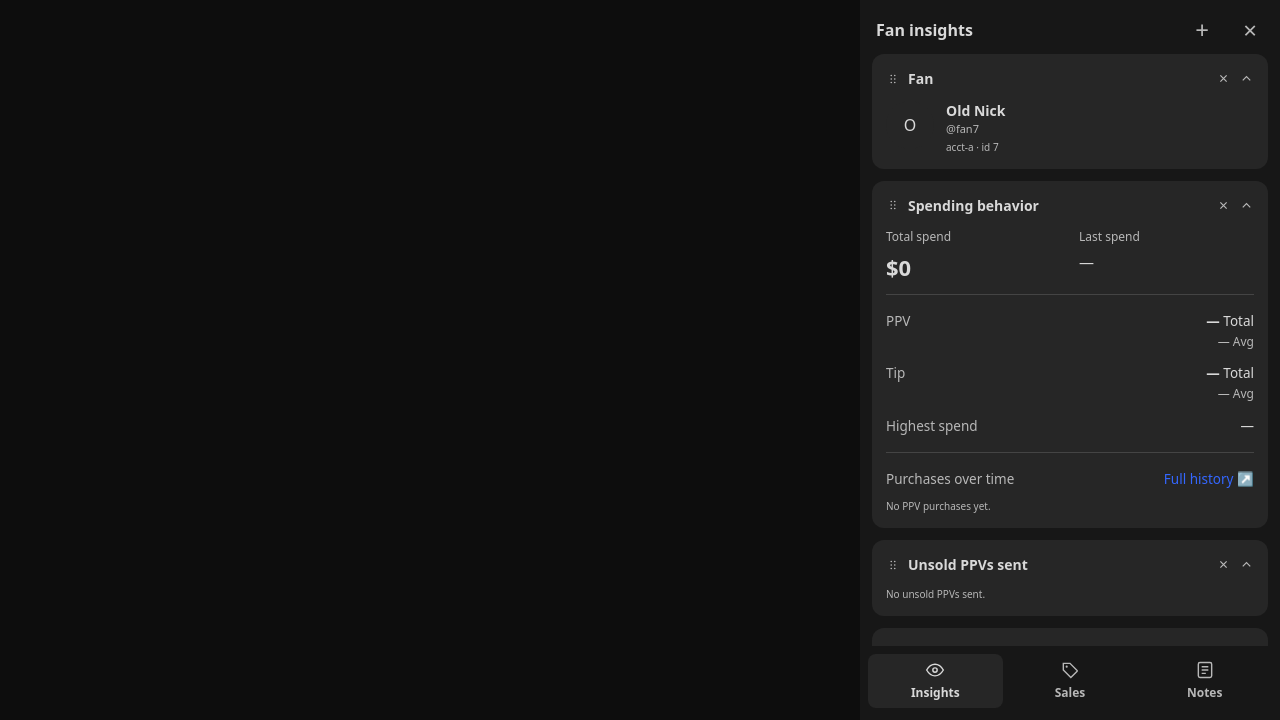
Test: Fan insights Notes tab › the Notes tab opens with a Creator notes block that reads —
Click the tab "Notes" at (1205,681), box top-left (1137, 654), bottom-right (1272, 708)
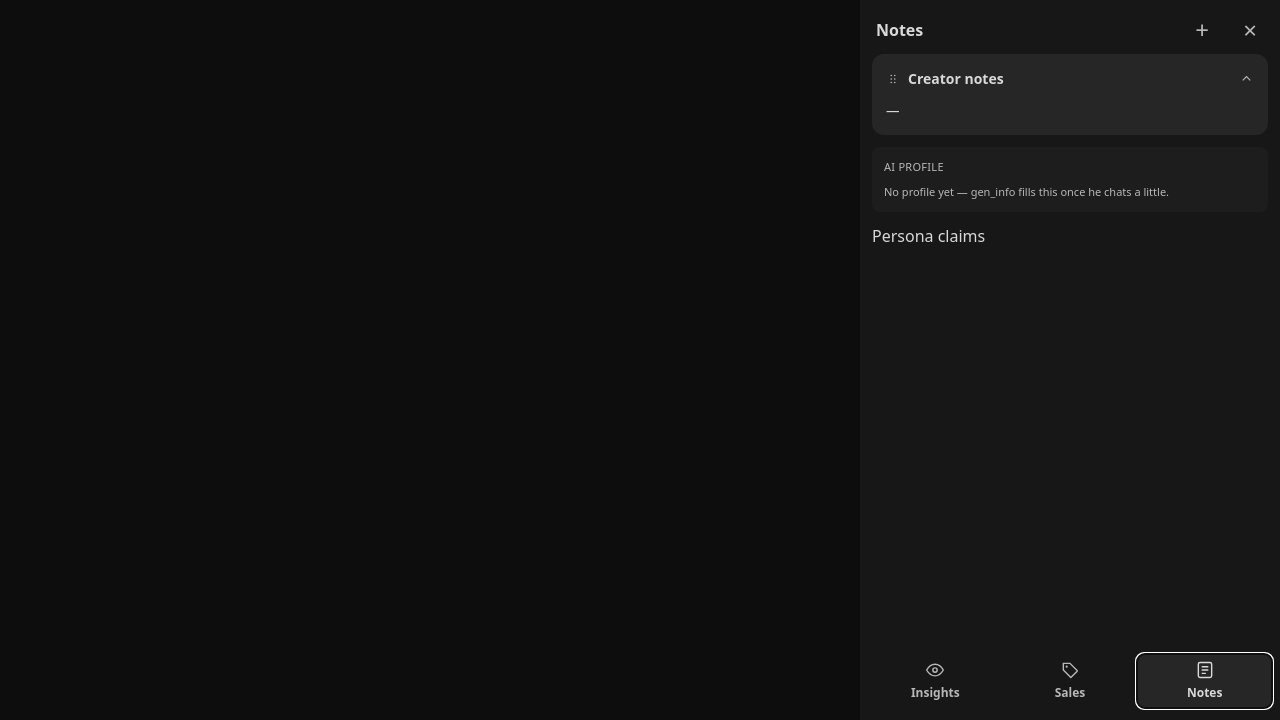
Expected: the text "—" is shown, top-left (886, 102), bottom-right (900, 120)
Expected: the heading "Creator notes" is shown, top-left (908, 69), bottom-right (1004, 88)
